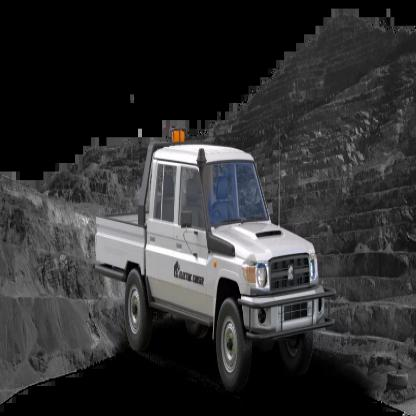light_vehicle: (82, 107, 332, 401)
